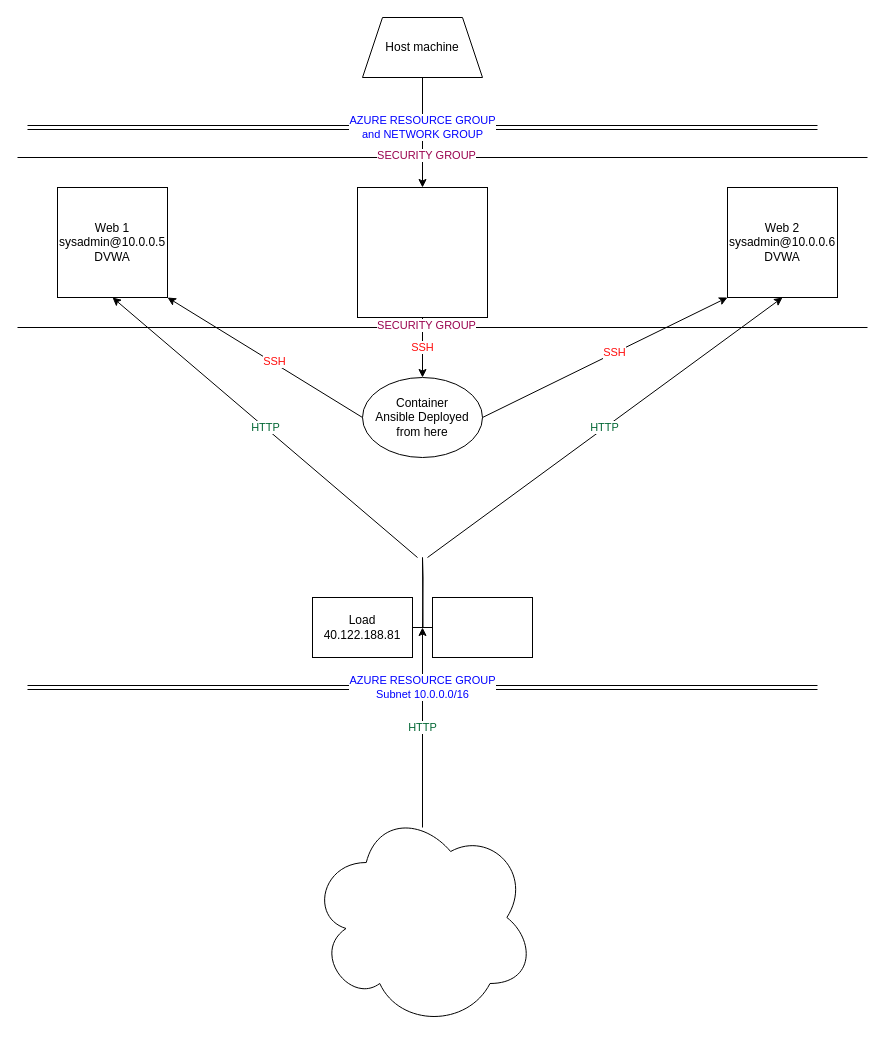
Image size: 886x1045. Some labels were removed from this diagram. Each missing label, with the centre of its shape:
Balancer 40.122.188.81: pixel 482 627
INTERNET: pixel 422 917
Jump Box sysadmin@24.99.129.73 10.0.0.5 Docker Deployed: pixel 422 252
